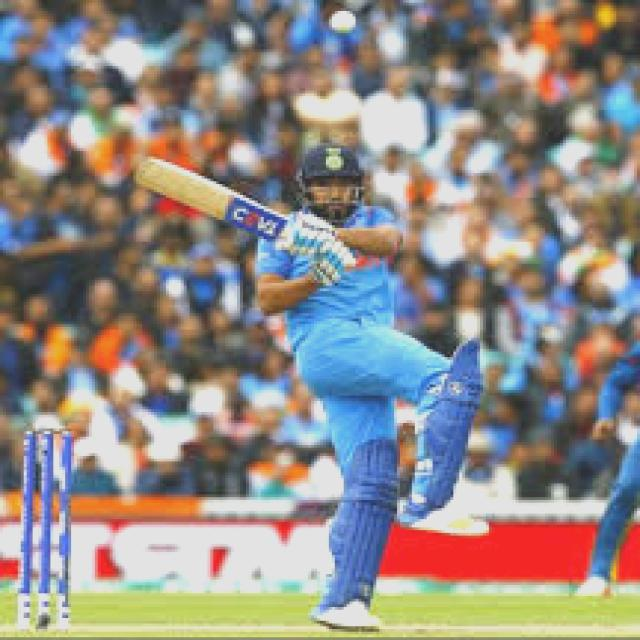toe: (115, 157, 177, 196)
